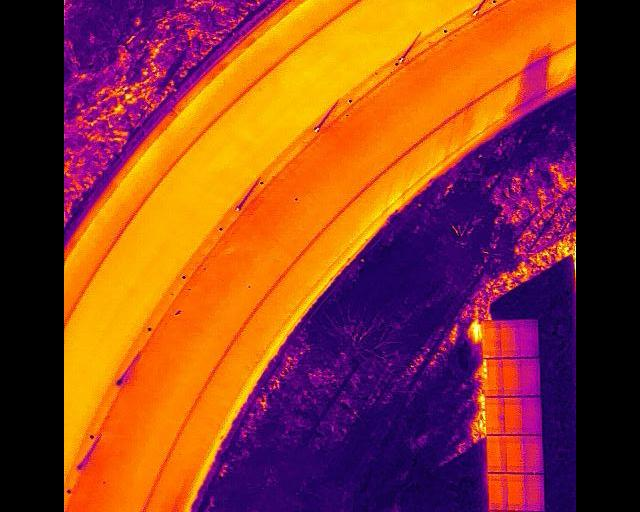Cell-Multi: (484, 358, 502, 395)
No-Anomaly: (516, 319, 539, 358), (520, 394, 540, 434), (498, 358, 520, 394), (521, 435, 542, 472), (504, 473, 525, 510), (519, 356, 539, 394), (500, 396, 520, 434), (525, 473, 544, 511), (482, 321, 501, 357), (498, 319, 516, 357), (504, 433, 521, 473), (487, 434, 504, 472), (484, 397, 500, 434), (488, 472, 504, 509)
